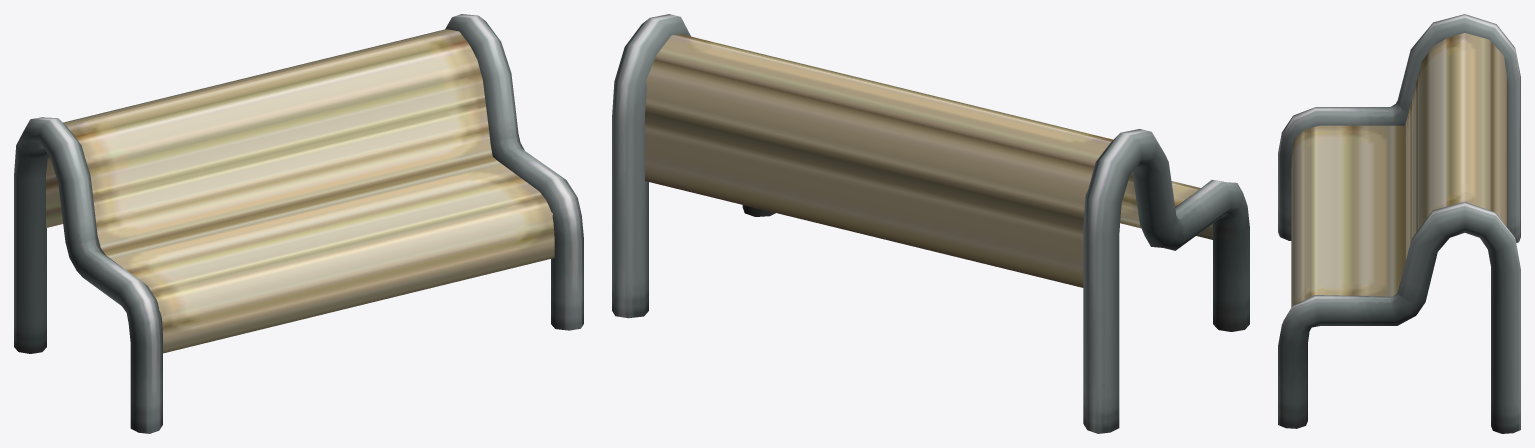
Rendered from fobj_bench_mdn.dae.
The picture shows the model from 3 angles, left to right: view 1: azimuth 30°, elevation 25°; view 2: azimuth 150°, elevation 25°; view 3: azimuth 270°, elevation 25°; orthographic projection. The views are drawn at different scales.
Parts seen in each view (by area): view 1: _0_0_node; view 2: _0_0_node; view 3: _0_0_node.
Boxes of the visible parts, <box> form: _0_0_node: <box>14,14,583,433</box>; _0_0_node: <box>612,14,1249,433</box>; _0_0_node: <box>1278,14,1520,433</box>.
Size of the model in its own units: 61.96 by 32.2 by 31.71.
1 material, 1 textured.
